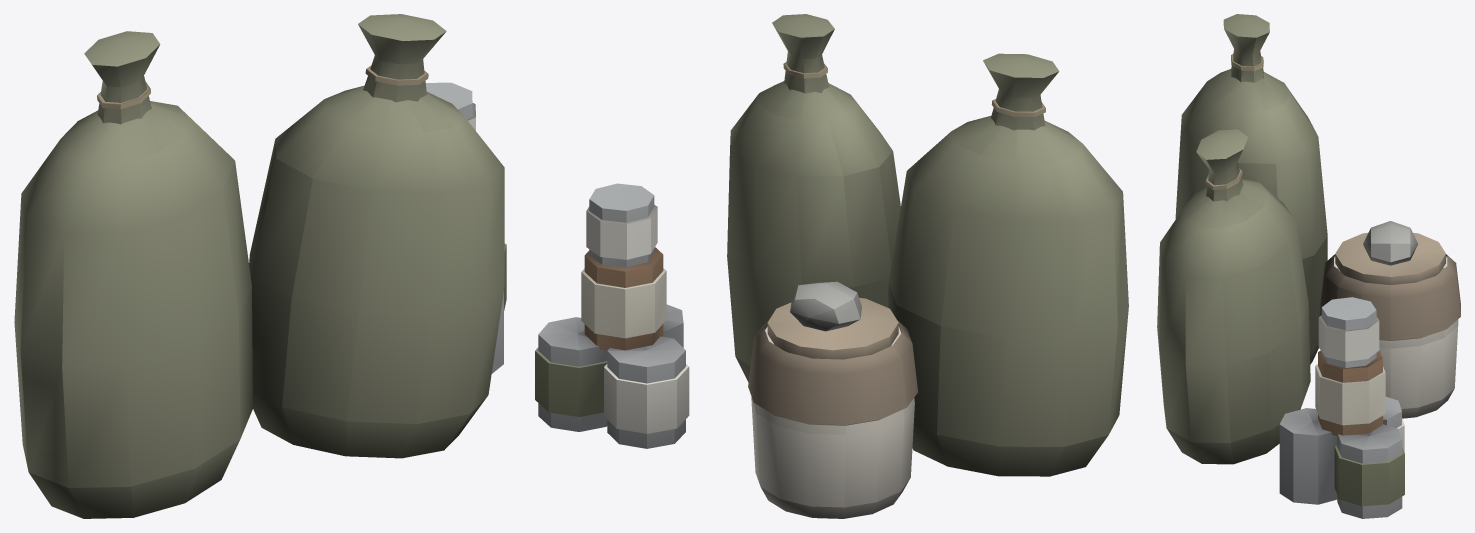
File: winter_stores.glb
3 views of the same model, side by side, from view 1: azimuth 30°, elevation 25°; view 2: azimuth 150°, elevation 25°; view 3: azimuth 270°, elevation 25° (orthographic). The views are drawn at different scales.
Visible parts, largest first — view 1: static; view 2: static; view 3: static.
Boxes of the visible parts, left/top/right/bottom form: static: left=14, top=14, right=506, bottom=518; static: left=535, top=14, right=1128, bottom=518; static: left=1157, top=14, right=1460, bottom=518.
Size of the model in its own units: 0.7036 by 0.5302 by 0.4385.
